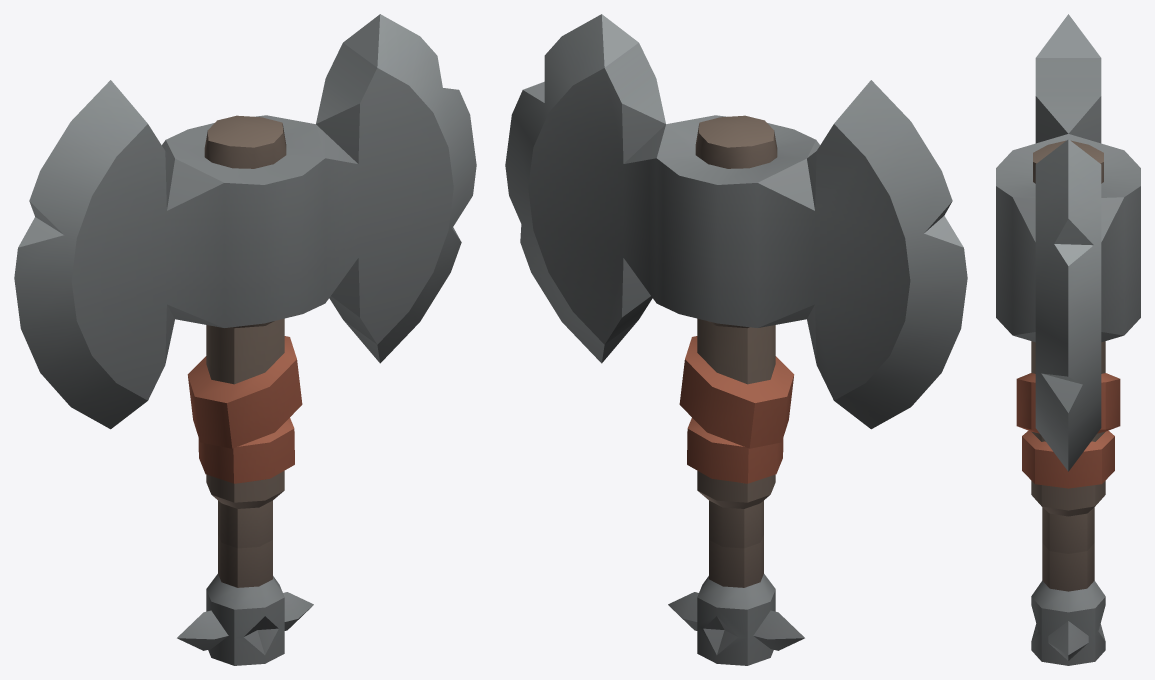
The model's file is hacha_hueso.glb.
The picture shows the model from 3 angles, left to right: view 1: azimuth 30°, elevation 25°; view 2: azimuth 150°, elevation 25°; view 3: azimuth 270°, elevation 25°; orthographic projection. The views are drawn at different scales.
Parts seen in each view (by area): view 1: Skeleton_Axe; view 2: Skeleton_Axe; view 3: Skeleton_Axe.
Part boxes in pixels (bbox=[...]): Skeleton_Axe: bbox=[14, 14, 476, 665]; Skeleton_Axe: bbox=[505, 14, 967, 665]; Skeleton_Axe: bbox=[996, 14, 1140, 665].
Bounding box in the file's own units: 0.9885 × 1.25 × 0.2818.
1 material, 1 textured.
